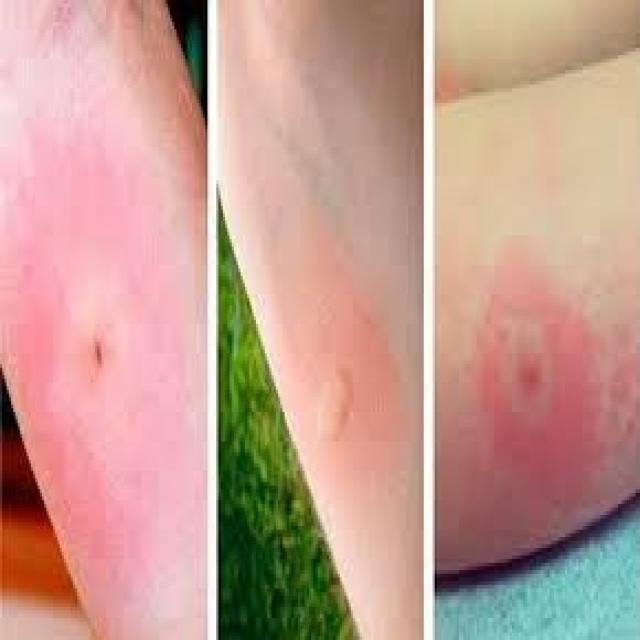kan emici bocekler: (485, 317, 574, 439), (66, 326, 106, 408), (312, 375, 357, 444)
